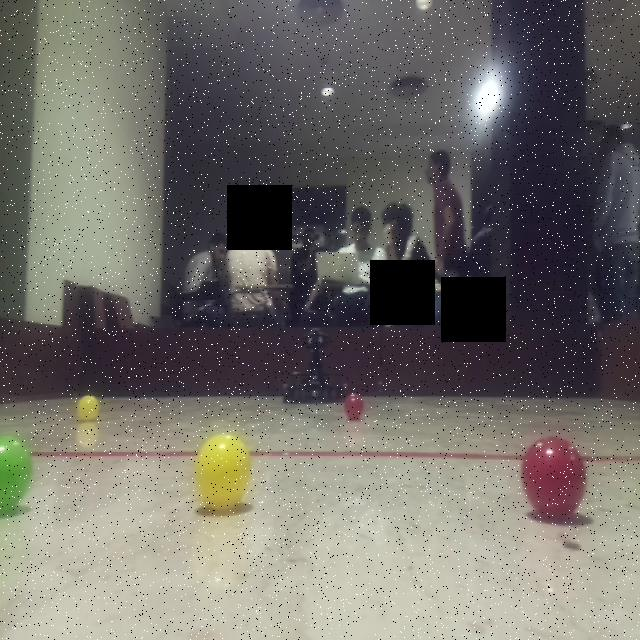ball: (517, 432, 589, 523), (193, 428, 257, 513), (2, 428, 36, 516), (74, 391, 102, 424), (341, 391, 367, 422)
